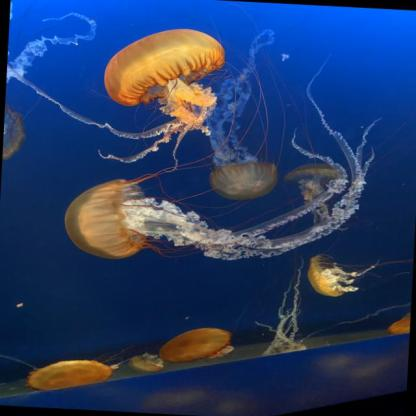jellyfish: (102, 25, 226, 111), (63, 178, 150, 260), (26, 357, 112, 394), (209, 160, 277, 203), (160, 325, 231, 366), (308, 254, 349, 297), (284, 162, 344, 188), (2, 103, 25, 162), (128, 354, 163, 376), (388, 310, 410, 336)
